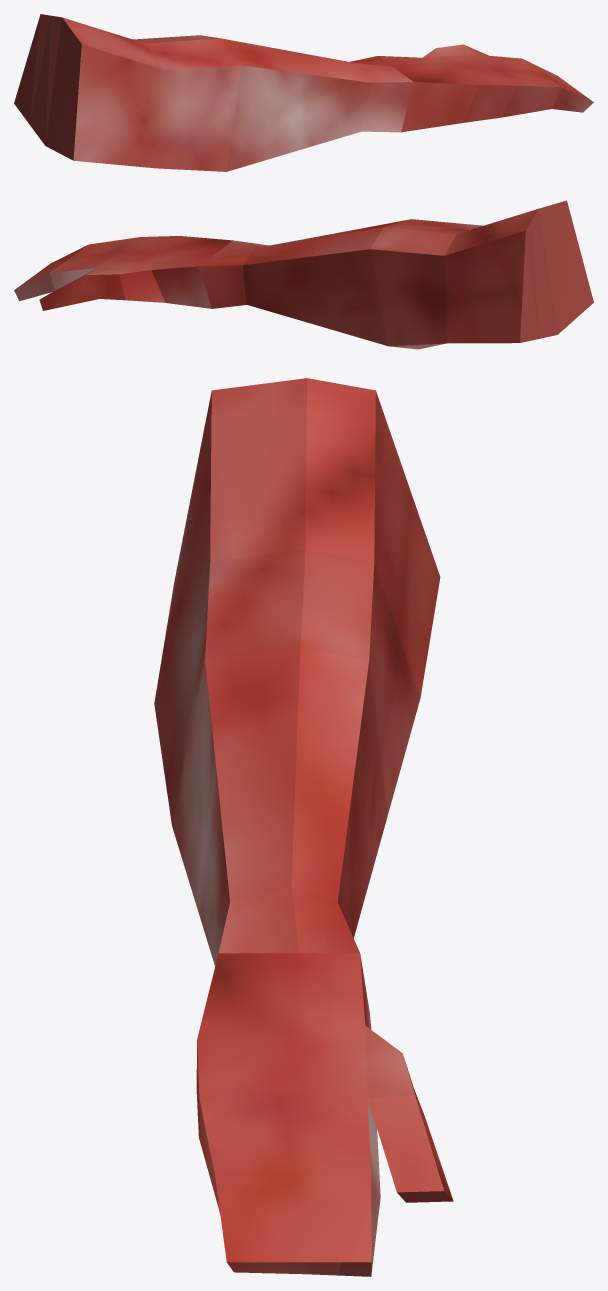
Rendered from GoatMan_Gib_Arm.fbx.
3 renders of one model, top to bottom at view 1: azimuth 30°, elevation 25°; view 2: azimuth 150°, elevation 25°; view 3: azimuth 270°, elevation 25°, orthographic. The views are drawn at different scales.
Parts seen in each view (by area): view 1: Body; view 2: Body; view 3: Body.
Part boxes in pixels (x1,y1,x2,y2): Body: (14, 14, 593, 171); Body: (14, 200, 593, 349); Body: (154, 378, 453, 1276).
Size of the model in its own units: 98.22 by 36.23 by 24.
